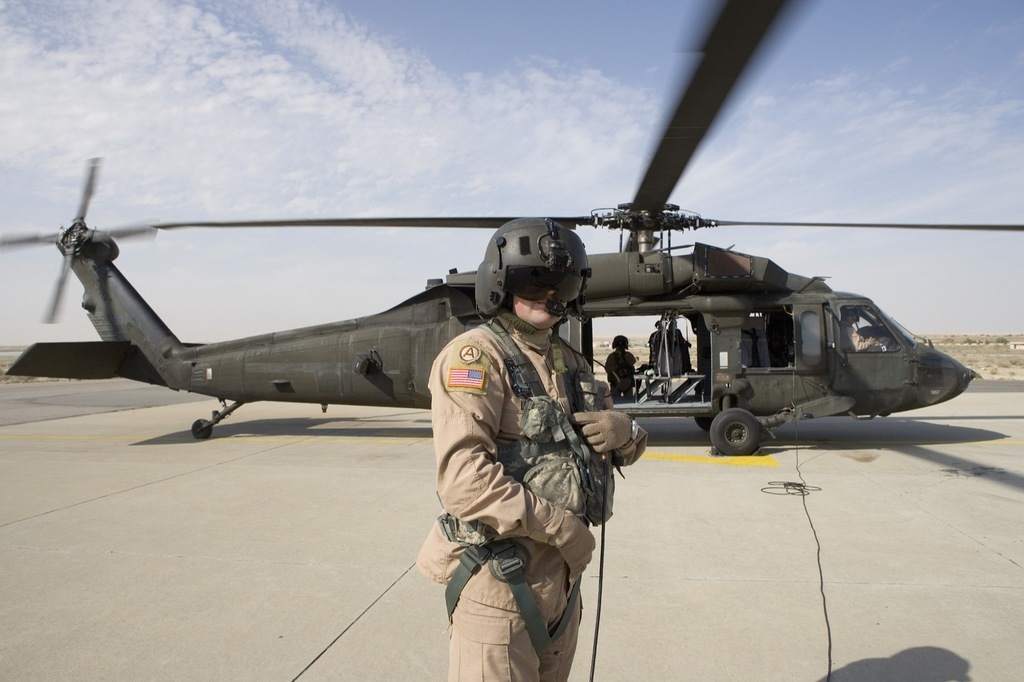Person: (415, 216, 648, 682)
